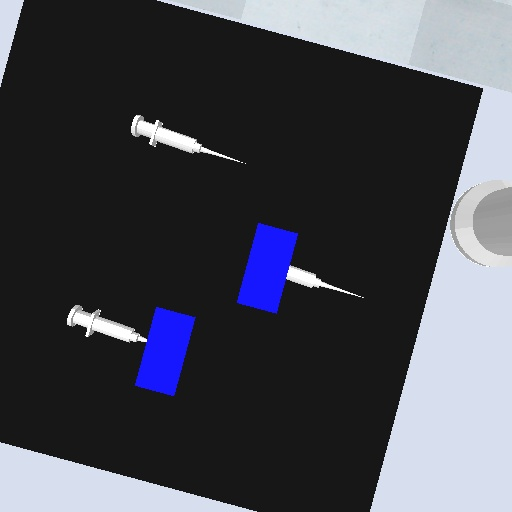jeringuilla: (128, 111, 252, 170), (62, 301, 151, 346), (284, 264, 369, 306)
